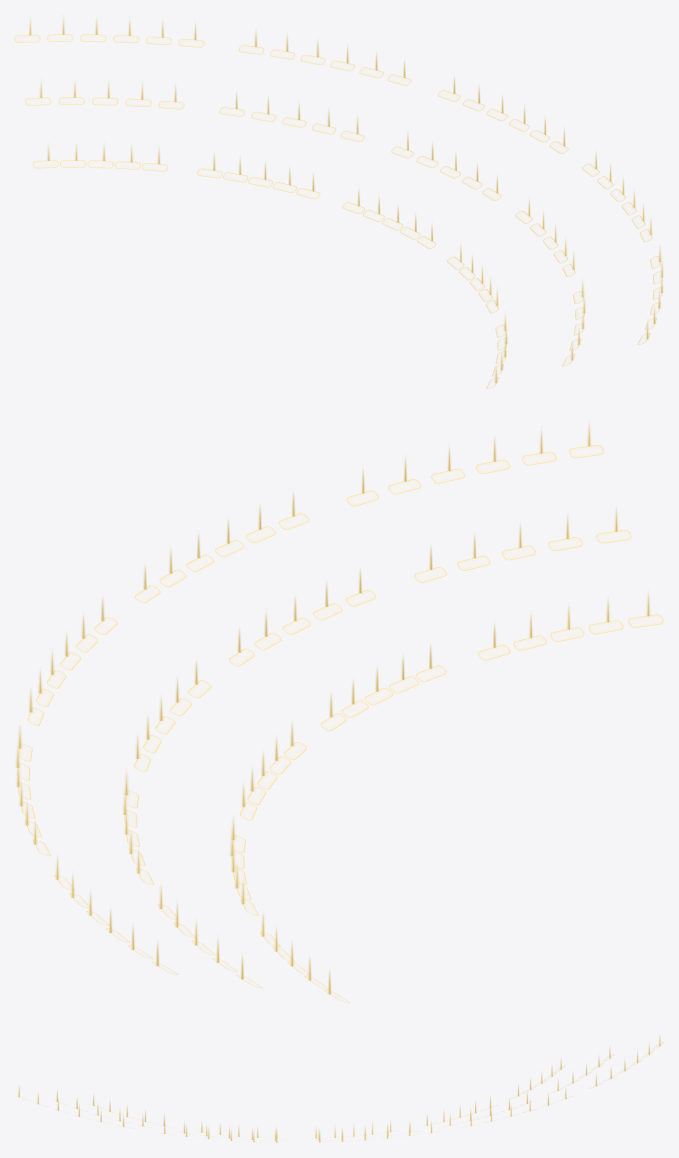
Rendered from mwm_diskglow_g.glb.
The picture shows the model from 3 angles, top to bottom: view 1: azimuth 30°, elevation 25°; view 2: azimuth 150°, elevation 25°; view 3: azimuth 270°, elevation 25°; orthographic projection. The views are drawn at different scales.
Parts seen in each view (by area): view 1: diskglow_g, diskbeam_g; view 2: diskglow_g, diskbeam_g; view 3: diskbeam_g, diskglow_g.
Part boxes in pixels (x1,y1,x2,y2): diskglow_g: [14, 34, 662, 388]; diskbeam_g: [29, 15, 663, 383]; diskglow_g: [17, 445, 663, 1003]; diskbeam_g: [16, 423, 650, 994]; diskbeam_g: [18, 1035, 660, 1142]; diskglow_g: [15, 1042, 663, 1135].
Bounding box in the file's own units: 65.2 × 14.36 × 149.
Materials: 2 (2 with a texture image).
